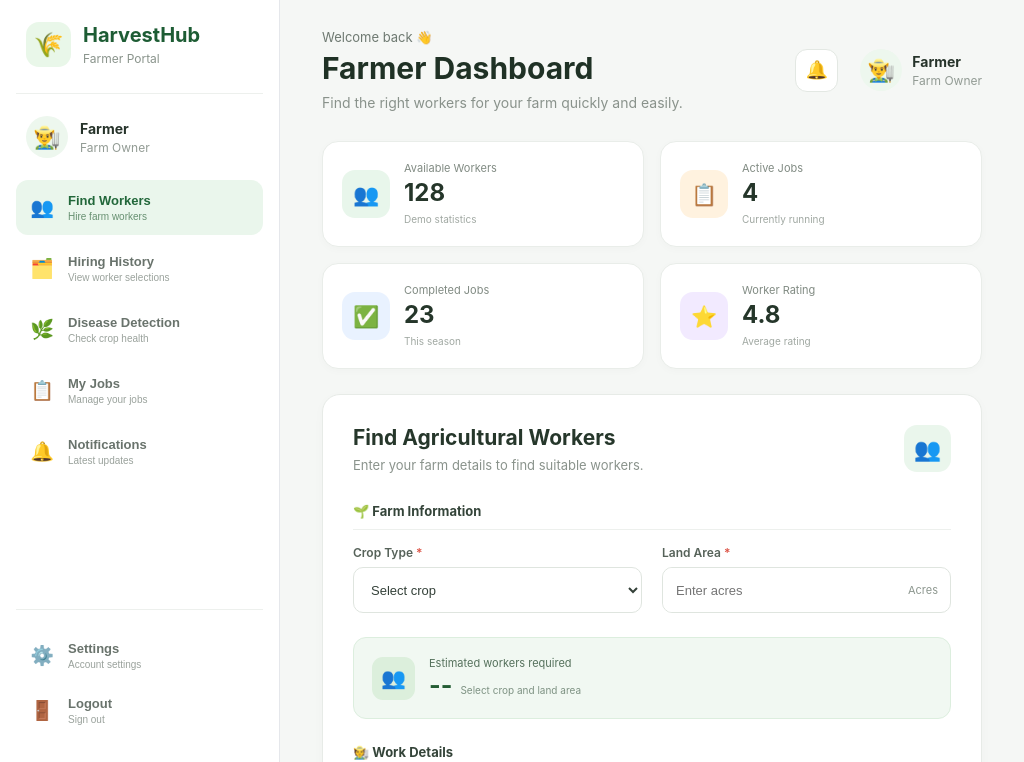
Test case: finds registered worker profiles without requiring a job application
Expected: the text "Suresh Naidu" is not shown
Select "🌾 Wheat" in the dropdown at (498, 590), box [353,567,642,613]
(page scrolled)
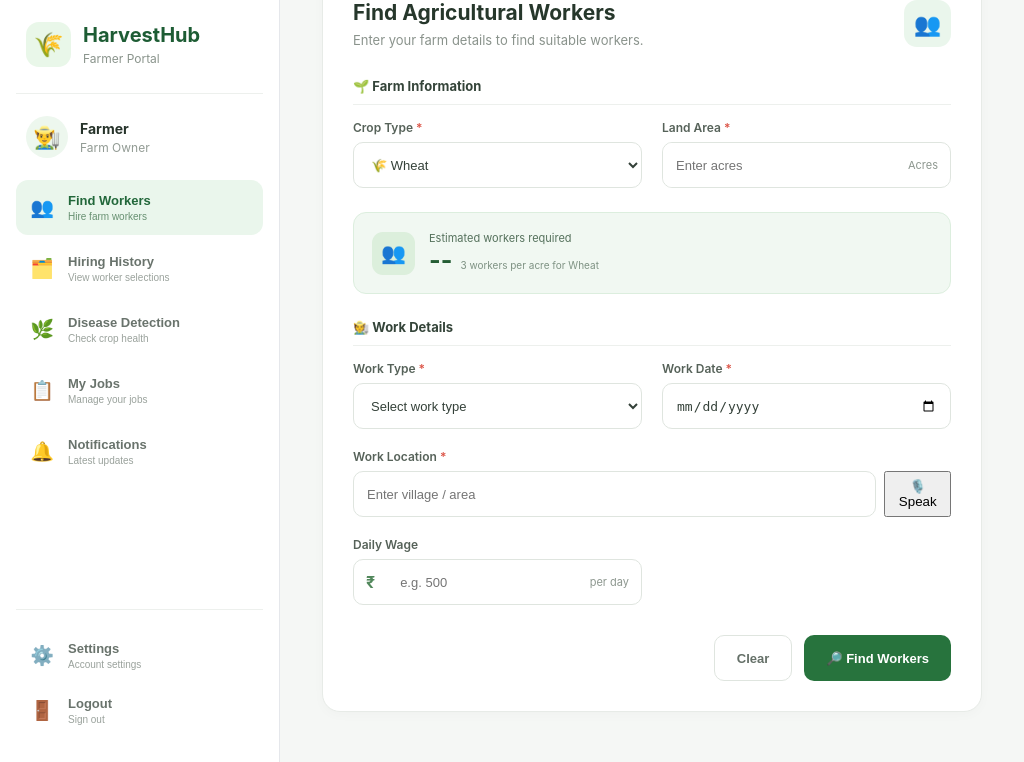
Select "Pruning" in the dropdown below "Work Type" at (498, 406), box [353,383,642,429]
Type "5" into the number field with placeholder "Enter acres" at (779, 165), box [663,142,896,188]
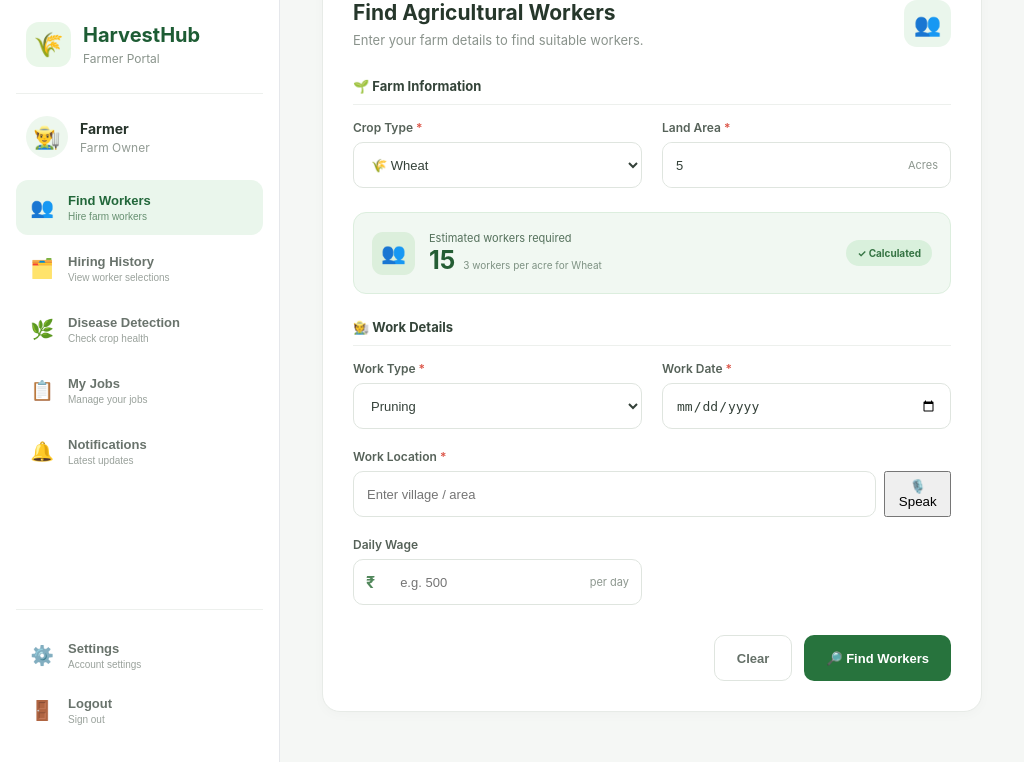
Type "2030-01-01" into the date field at (806, 406), box [662,383,951,429]
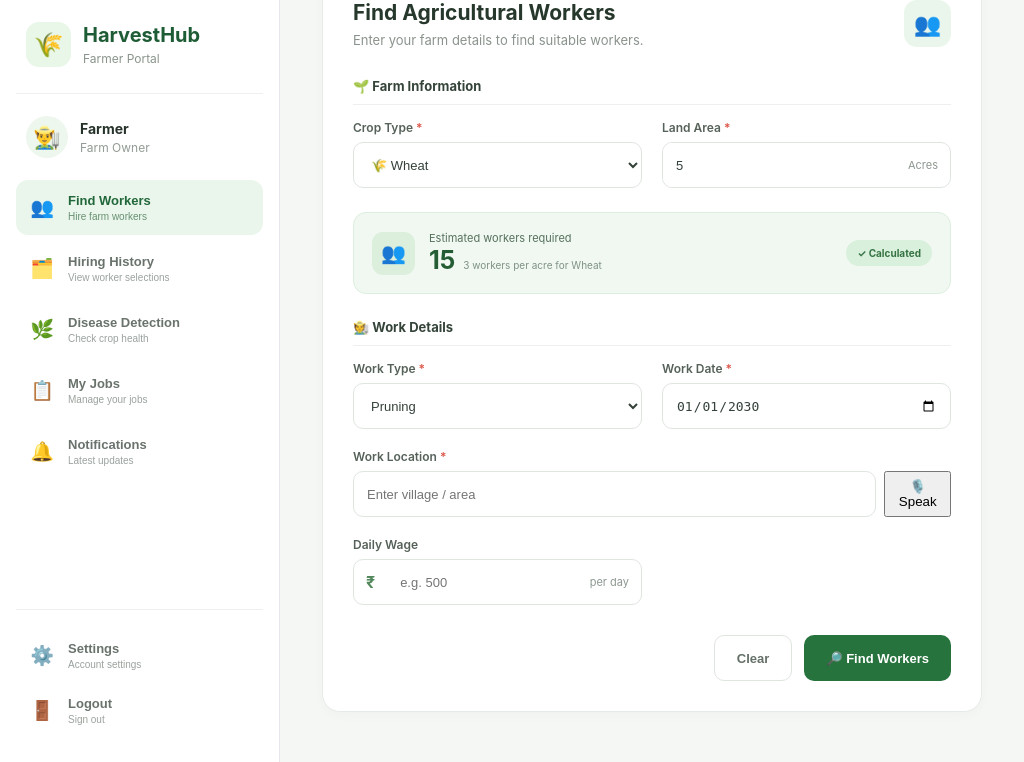
Type "Samalkot" into the field with placeholder "Enter village / area" at (615, 494), box [353,471,876,517]
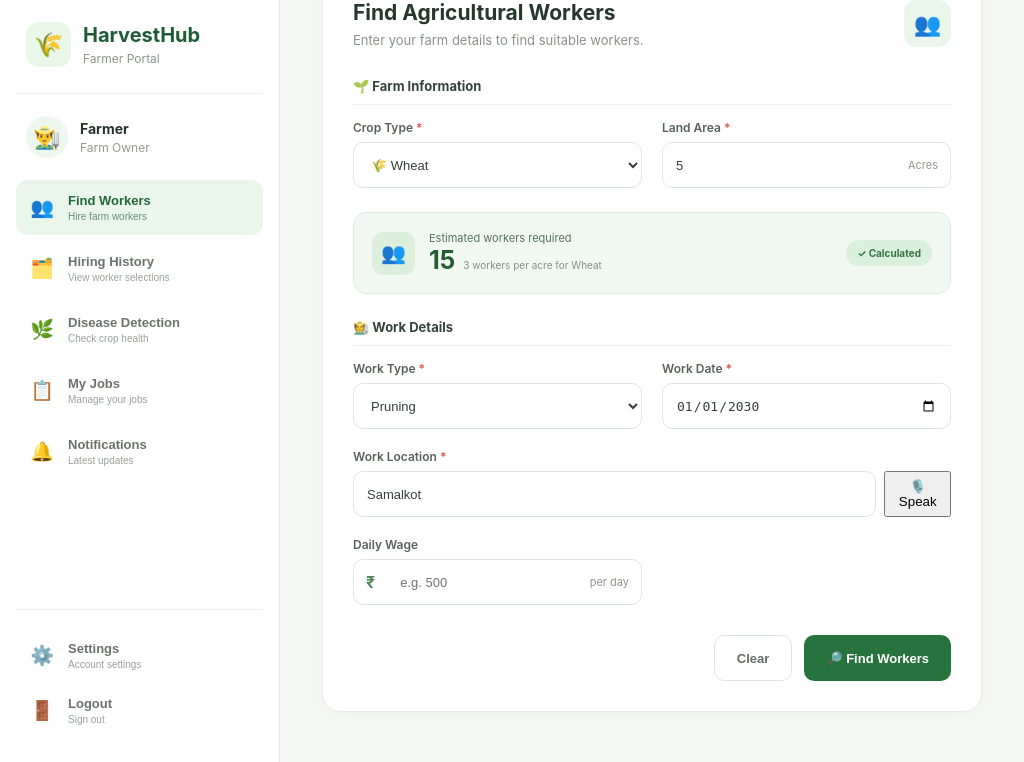
Type "500" into the number field with placeholder "e.g. 500" at (482, 582), box [387,559,578,605]
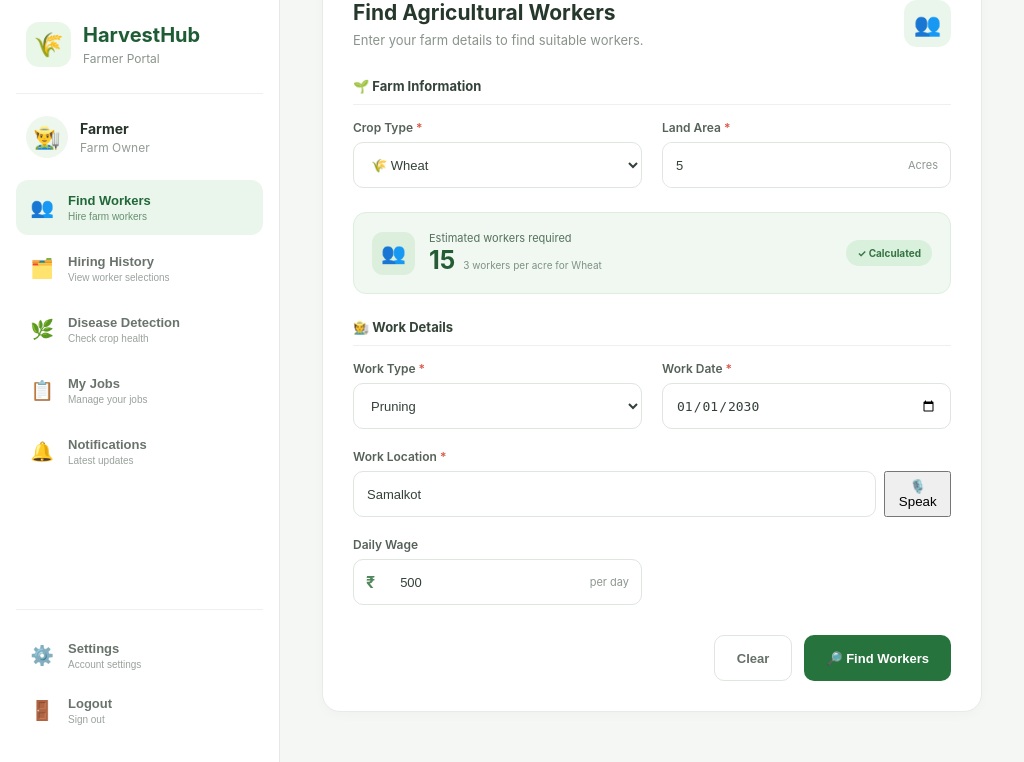
Submit the form, box [353,78,951,681]
(page scrolled)
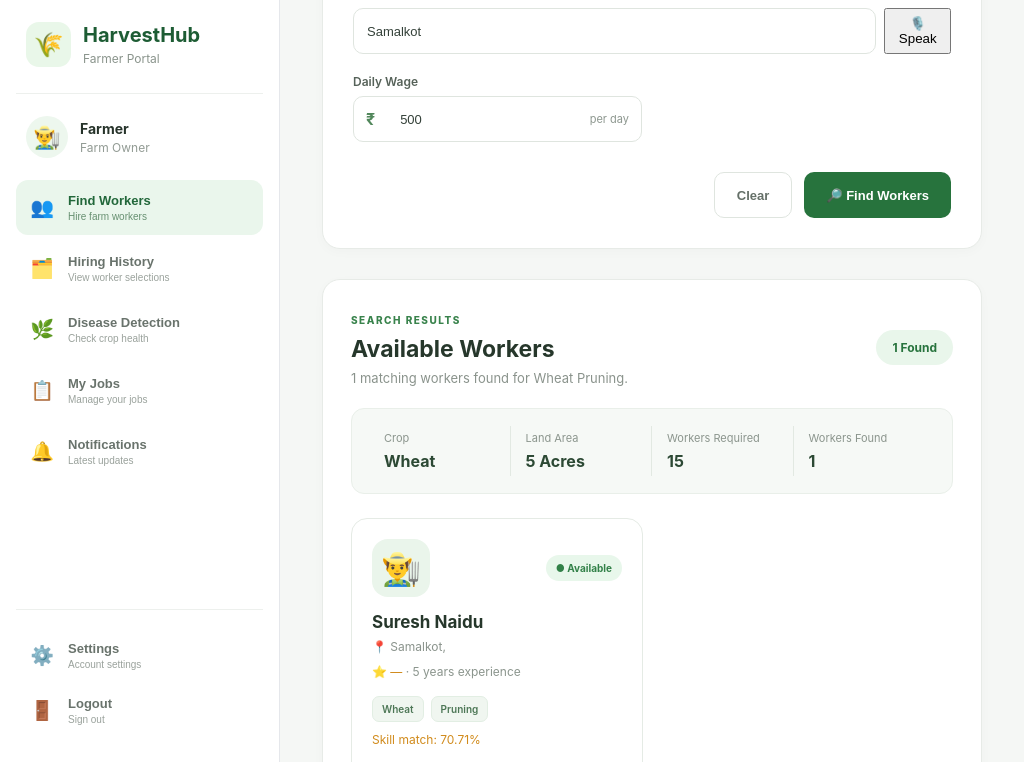
Expected: the heading "Suresh Naidu" is shown, [372,612,483,632]
Expected: the text "📍 Samalkot," is shown, [372,639,446,654]
Expected: the text "Skill match: 70.71%" is shown, [372,732,481,747]
